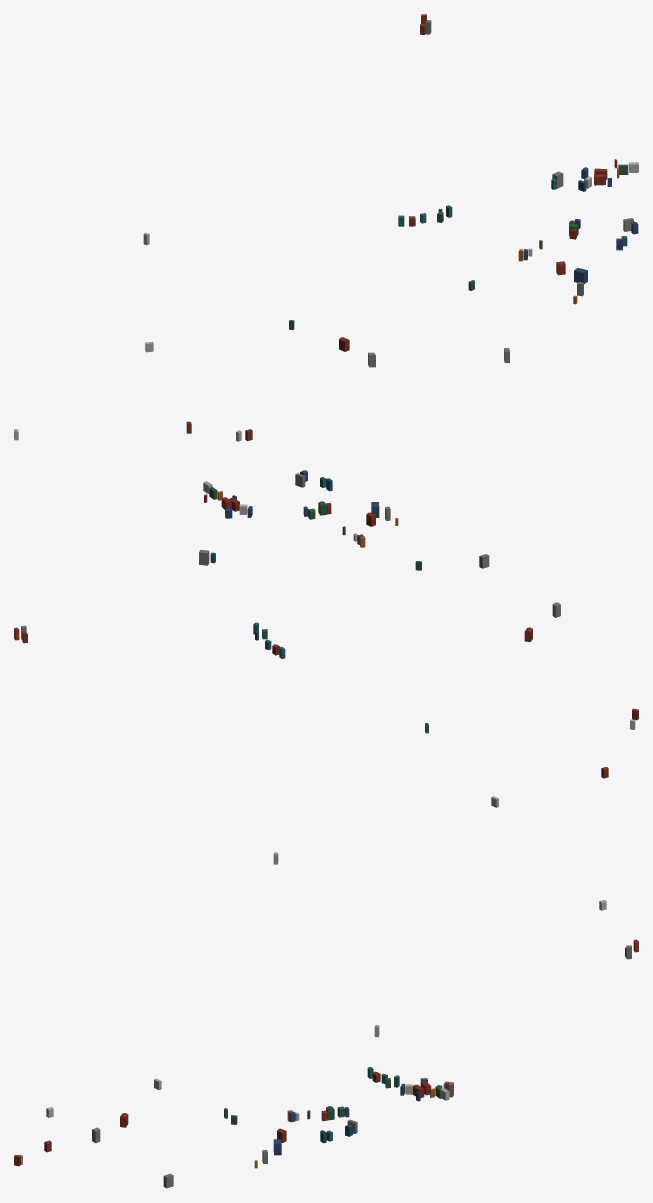
File: near-15-27353-14865.e42ff4ff.glb
3 views of the same model, one above another, from view 1: azimuth 30°, elevation 25°; view 2: azimuth 150°, elevation 25°; view 3: azimuth 330°, elevation 25° (orthographic).
Size of the model in its own units: 1129 by 485 by 1097.
